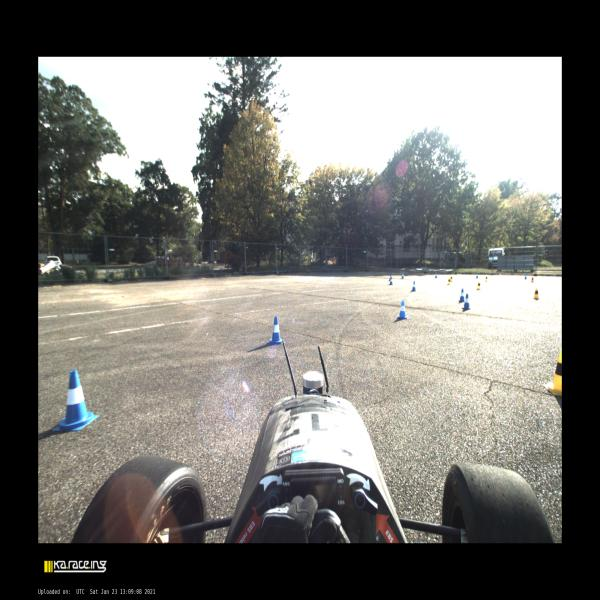blue_cone: (53, 370, 100, 432), (267, 315, 285, 345), (396, 299, 410, 320), (462, 293, 470, 309), (458, 288, 465, 302), (411, 281, 416, 291), (389, 276, 393, 286), (400, 272, 404, 279), (434, 272, 438, 278), (524, 272, 527, 280), (388, 274, 391, 281), (476, 272, 478, 279)
yellow_cone: (543, 348, 562, 396), (533, 287, 540, 300), (476, 281, 482, 291), (447, 277, 451, 285), (531, 275, 534, 283), (485, 275, 488, 282), (450, 275, 453, 282)
